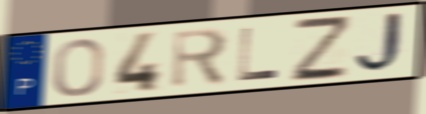4: (112, 29, 165, 94)
J: (353, 10, 410, 77)
L: (236, 25, 282, 83)
O: (50, 37, 106, 99)
R: (170, 26, 232, 91)
Z: (290, 16, 350, 84)
